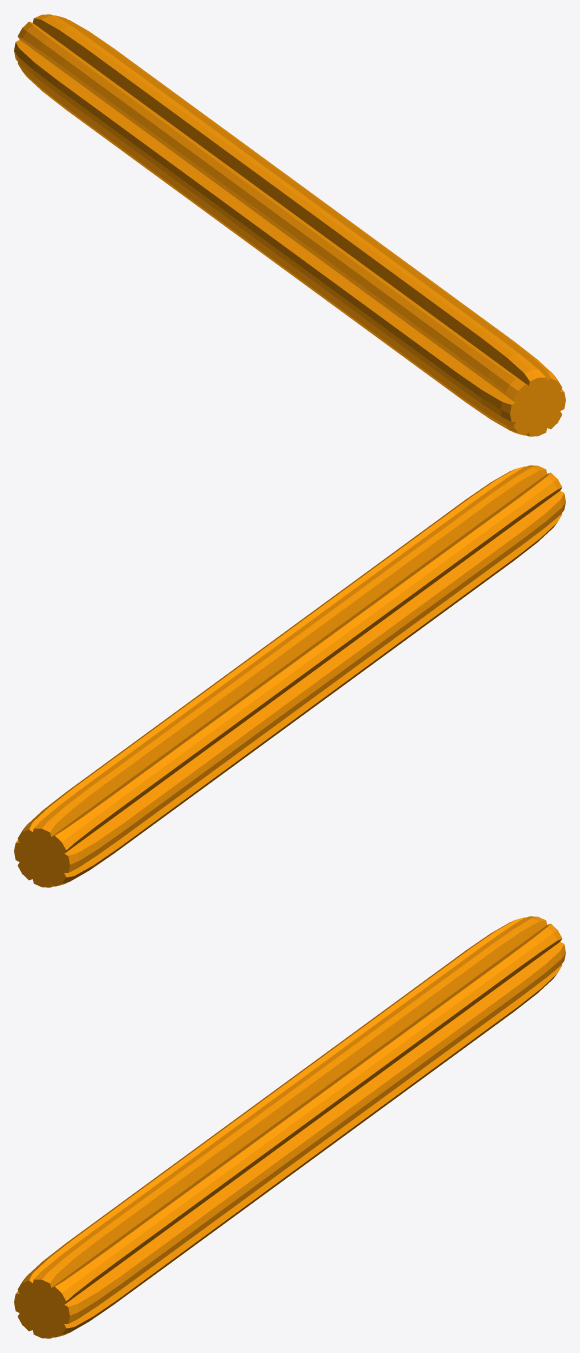
The model's file is churro.fbx.
3 views of the same model, one above another, from view 1: azimuth 30°, elevation 25°; view 2: azimuth 150°, elevation 25°; view 3: azimuth 330°, elevation 25° (orthographic).
Visible parts, largest first — view 1: Churro; view 2: Churro; view 3: Churro.
Boxes of the visible parts, x1,y1,x2,y2 form: Churro: (14,14,565,436); Churro: (14,465,565,887); Churro: (14,916,565,1338).
Size of the model in its own units: 4.12 by 4.12 by 52.38.
